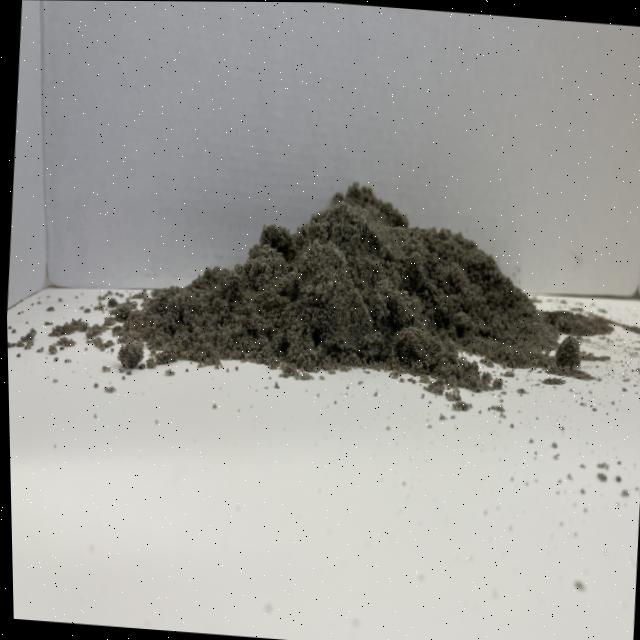sand: (89, 151, 622, 422)
